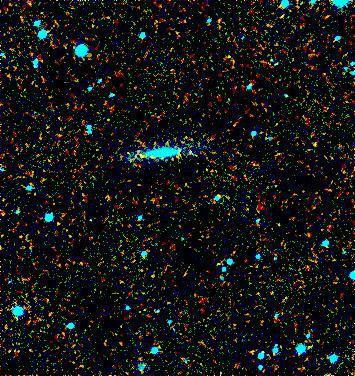star: (128, 139, 158, 169)
